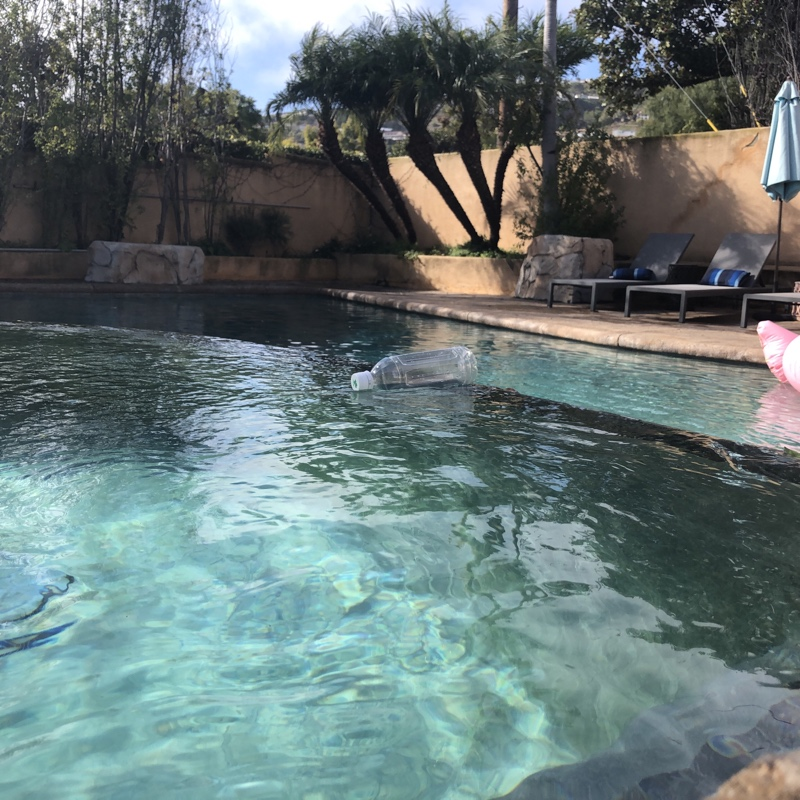Plastic Bottle: (348, 344, 480, 396)
